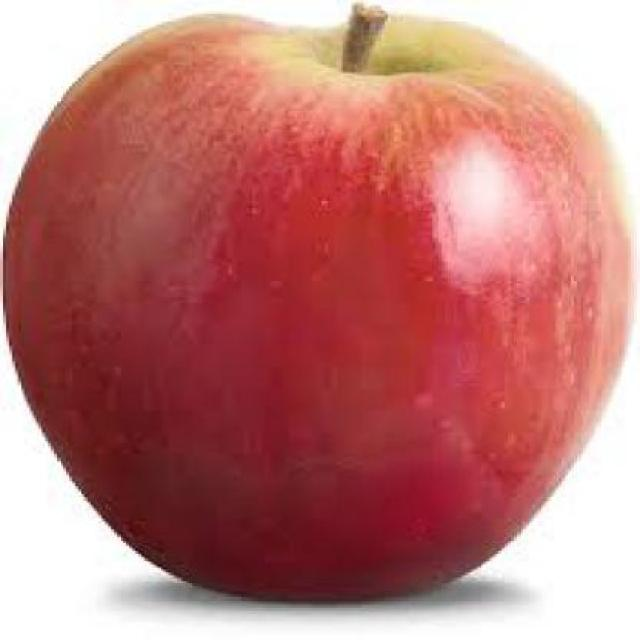BIODEGRADABLE: (0, 2, 634, 602)
